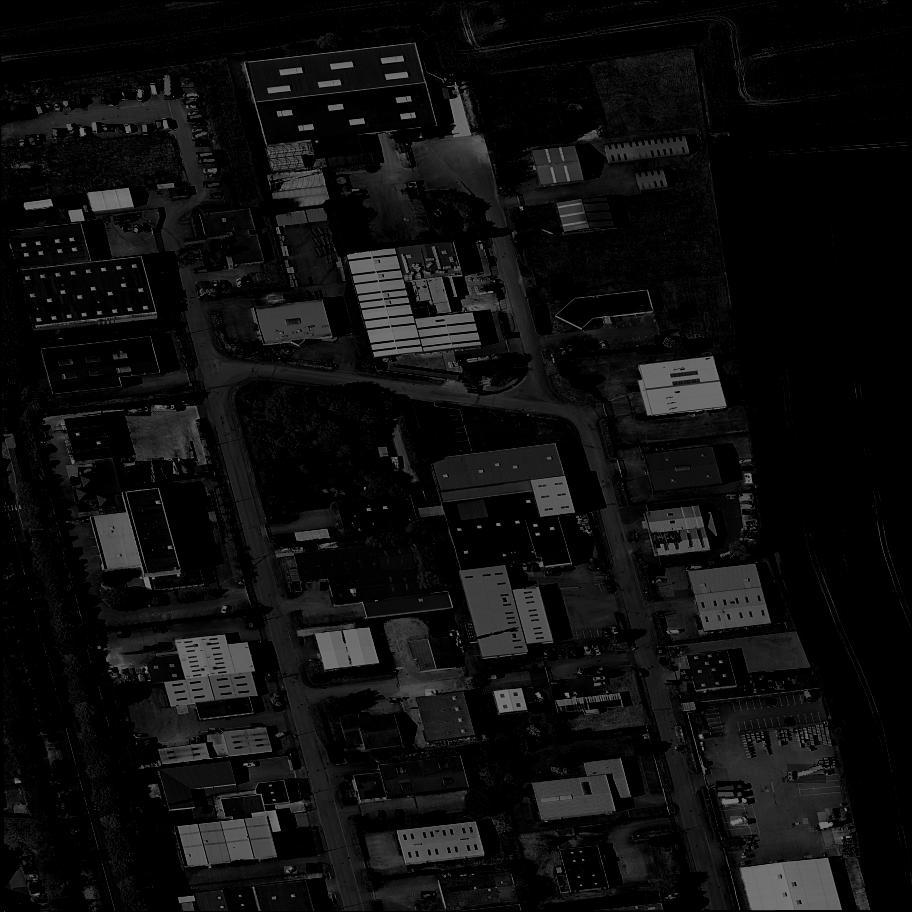large-vehicle: (788, 764, 827, 784), (155, 459, 173, 484), (135, 460, 151, 485), (177, 458, 194, 479), (716, 782, 744, 794), (125, 406, 151, 417), (166, 457, 180, 477), (731, 816, 750, 829), (148, 458, 158, 482), (721, 799, 748, 806), (164, 76, 172, 99), (25, 134, 38, 148), (192, 133, 209, 143), (681, 669, 693, 683), (66, 124, 78, 137), (719, 792, 744, 798), (187, 115, 205, 123), (805, 690, 816, 703), (197, 151, 214, 159), (34, 103, 44, 116), (183, 98, 199, 106), (75, 95, 84, 109), (273, 732, 287, 741), (152, 406, 176, 411), (535, 692, 545, 704), (204, 182, 221, 189), (198, 157, 215, 164), (163, 118, 172, 131), (203, 167, 218, 174), (685, 565, 702, 571), (106, 94, 115, 105), (124, 123, 133, 134), (151, 83, 159, 95), (137, 90, 145, 102), (141, 124, 149, 136), (183, 94, 198, 100), (64, 101, 73, 111), (156, 120, 164, 130), (21, 165, 36, 170), (79, 126, 85, 137), (93, 122, 99, 131), (52, 129, 58, 137), (351, 190, 365, 193)
small-vehicle: (569, 647, 582, 661), (153, 623, 168, 635), (78, 467, 94, 477), (284, 865, 297, 877), (11, 845, 25, 856), (649, 568, 666, 577), (596, 665, 608, 677), (181, 78, 195, 88), (525, 579, 536, 591), (421, 892, 437, 900), (798, 668, 812, 677), (31, 887, 45, 896), (577, 668, 588, 679), (603, 628, 614, 639), (158, 643, 173, 651), (740, 495, 755, 503), (744, 473, 754, 485), (117, 629, 129, 639), (195, 140, 211, 147), (194, 267, 208, 275), (19, 861, 35, 868), (585, 646, 595, 657), (785, 717, 795, 728), (775, 681, 785, 692), (599, 340, 609, 351), (351, 194, 366, 201), (505, 332, 520, 339), (550, 680, 565, 687), (30, 884, 43, 892), (595, 680, 608, 688), (584, 342, 594, 352), (659, 657, 669, 667), (594, 646, 603, 657), (742, 505, 756, 512), (580, 536, 594, 543), (26, 879, 40, 886), (425, 689, 437, 697), (209, 193, 222, 200), (243, 276, 252, 286), (651, 578, 666, 584), (221, 604, 229, 615), (307, 862, 315, 873), (657, 645, 665, 656), (597, 689, 611, 695), (16, 856, 30, 862), (667, 629, 681, 635), (739, 458, 753, 464), (220, 280, 229, 289), (568, 345, 577, 354), (128, 91, 136, 101), (550, 652, 558, 662), (192, 121, 205, 127), (120, 457, 133, 463), (27, 874, 40, 880), (54, 103, 62, 112), (320, 582, 328, 591), (203, 805, 210, 815), (742, 676, 749, 686), (23, 866, 37, 871), (561, 346, 568, 356), (192, 128, 205, 133), (34, 897, 47, 902), (235, 279, 243, 287), (109, 124, 116, 133), (101, 124, 108, 133), (753, 683, 760, 692), (785, 681, 792, 690), (116, 92, 122, 102), (665, 680, 677, 685), (165, 287, 177, 292), (33, 894, 45, 899), (188, 256, 202, 260), (767, 699, 774, 707), (571, 690, 579, 697), (639, 668, 646, 676), (654, 336, 661, 344), (189, 111, 200, 116), (389, 698, 400, 703), (101, 96, 107, 105), (378, 810, 384, 819), (521, 565, 530, 571), (615, 651, 625, 656), (43, 103, 50, 110), (530, 563, 537, 570), (134, 225, 140, 233), (209, 728, 221, 732), (19, 139, 25, 147), (60, 128, 66, 136), (251, 723, 263, 727), (688, 684, 694, 692), (395, 810, 401, 818), (594, 677, 606, 681), (761, 683, 766, 692), (133, 734, 144, 738), (39, 906, 50, 910), (116, 125, 122, 132), (189, 737, 196, 743), (24, 870, 38, 873), (543, 653, 550, 659), (546, 572, 560, 575), (103, 396, 111, 401), (207, 173, 217, 177), (70, 477, 75, 485), (589, 667, 594, 675), (769, 681, 774, 689), (742, 467, 752, 471), (593, 342, 598, 350), (727, 494, 740, 497), (186, 106, 198, 109), (122, 91, 126, 100), (161, 270, 170, 274), (583, 541, 595, 544), (742, 511, 754, 514), (197, 736, 203, 742), (143, 224, 148, 231), (213, 281, 218, 288), (745, 685, 750, 692), (751, 675, 755, 683), (559, 651, 563, 658), (742, 502, 754, 504), (37, 135, 41, 141), (579, 648, 582, 654), (109, 669, 113, 673), (84, 98, 86, 105)
